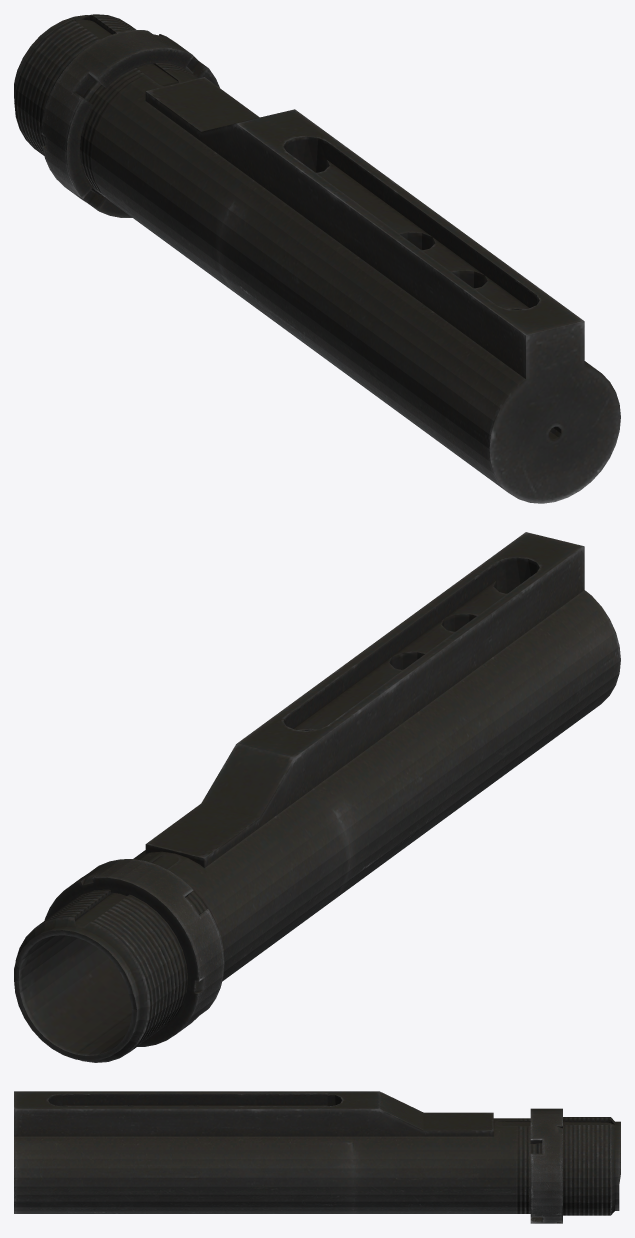
3 renders of one model, top to bottom at view 1: azimuth 30°, elevation 25°; view 2: azimuth 150°, elevation 25°; view 3: azimuth 270°, elevation 25°, orthographic. The views are drawn at different scales.
Visible parts, largest first — view 1: TW_606587e18900dc2d9a55b65f_PZ_Import; view 2: TW_606587e18900dc2d9a55b65f_PZ_Import; view 3: TW_606587e18900dc2d9a55b65f_PZ_Import.
Part boxes in pixels (bbox=[...]): TW_606587e18900dc2d9a55b65f_PZ_Import: bbox=[14, 14, 620, 503]; TW_606587e18900dc2d9a55b65f_PZ_Import: bbox=[14, 532, 620, 1062]; TW_606587e18900dc2d9a55b65f_PZ_Import: bbox=[14, 1091, 620, 1223].
Size of the model in its own units: 0.0202 by 0.1063 by 0.0228.
1 material, 1 textured.
